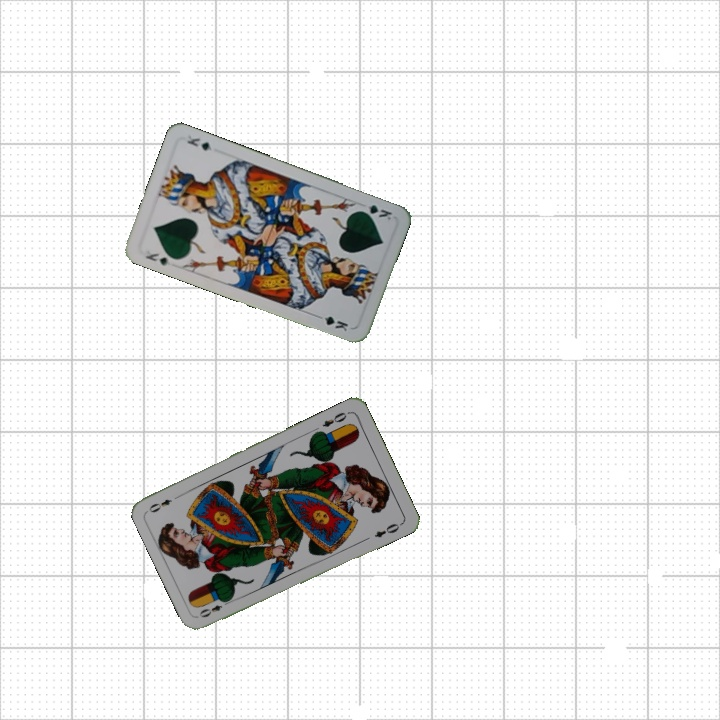EO: (195, 595, 233, 620), (318, 408, 352, 430)
GK: (355, 200, 395, 223), (142, 249, 173, 268)
